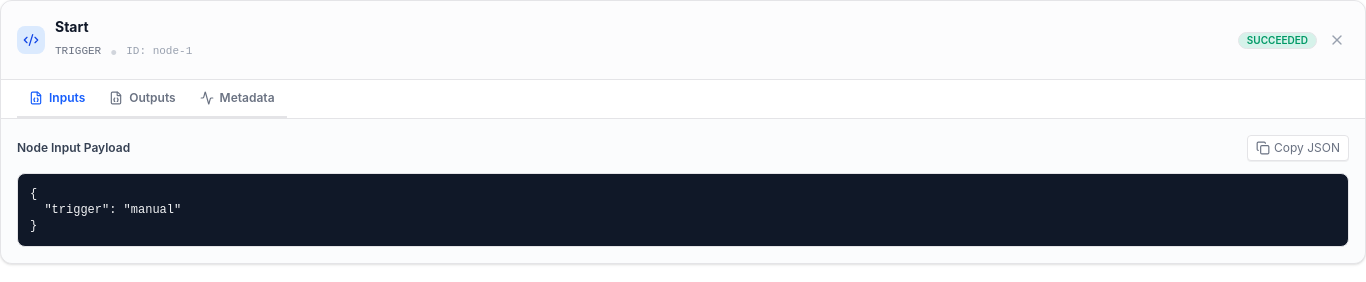
Test: Execution Console Components › Node Inspector › should show node inputs and outputs
Expected: the heading "Start" is shown, [55,18,89,35]
Expected: the text "{ \"trigger\": \"manual\" }" is shown, [17,173,1349,247]
Note: Switch to outputs tab
Click the button "Outputs" at (142, 99), box [97,80,188,118]
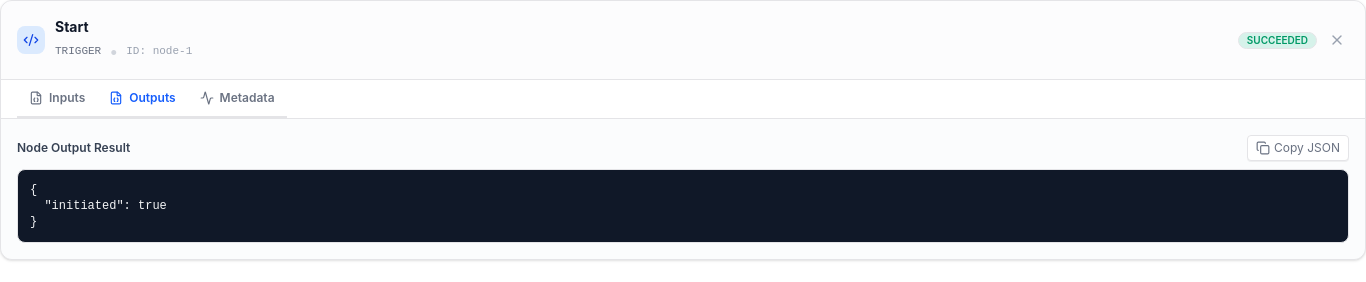
Expected: the text "{ \"initiated\": true }" is shown, [17,169,1349,243]
